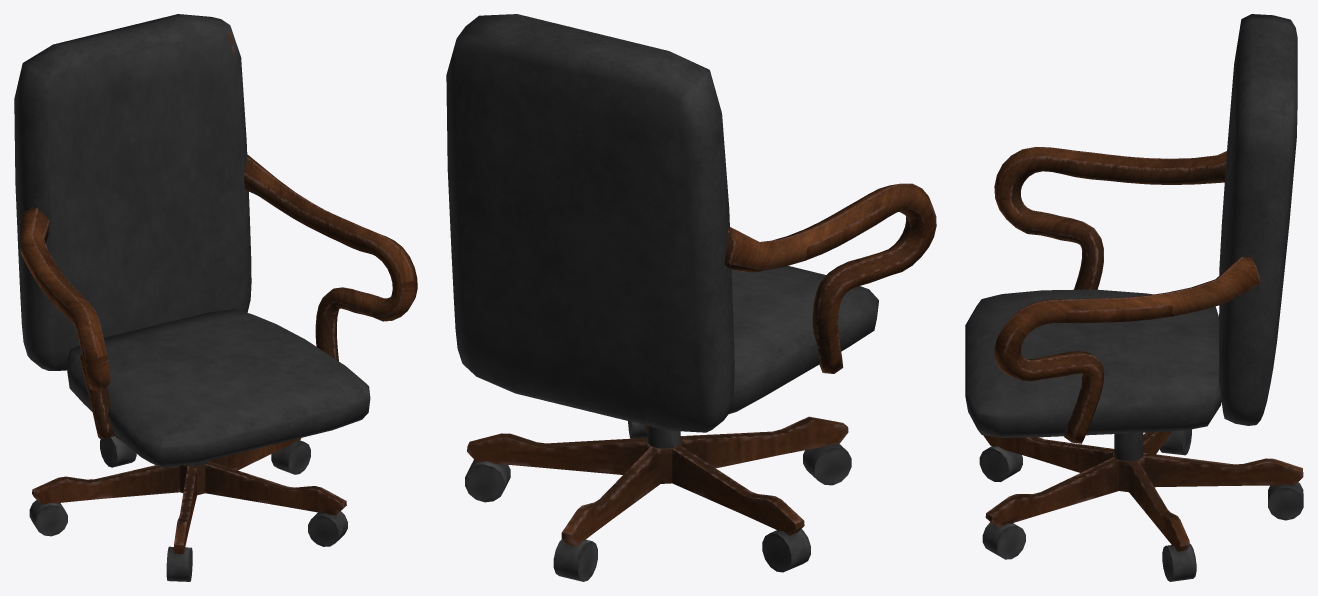
File: armchair.fbx
3 renders of one model, left to right at view 1: azimuth 30°, elevation 25°; view 2: azimuth 150°, elevation 25°; view 3: azimuth 270°, elevation 25°, orthographic. The views are drawn at different scales.
Parts seen in each view (by area): view 1: Poltrona.001; view 2: Poltrona.001; view 3: Poltrona.001.
Boxes of the visible parts, x1,y1,x2,y2 form: Poltrona.001: (14,14,417,581); Poltrona.001: (446,14,936,581); Poltrona.001: (965,14,1303,581).
Bounding box in the file's own units: 111 × 139 × 92.27.
